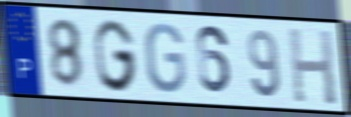6: (194, 23, 234, 99)
8: (46, 16, 87, 90)
9: (246, 27, 282, 101)
G: (92, 18, 139, 95), (144, 21, 188, 95)
H: (286, 25, 339, 108)
